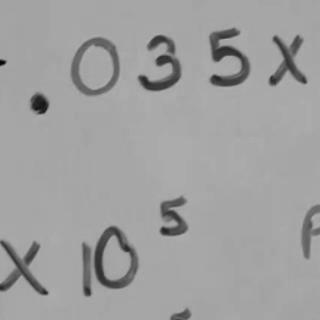.: (23, 91, 52, 117)
0: (70, 36, 121, 96), (95, 224, 138, 289)
1: (79, 241, 91, 298)
3: (141, 33, 181, 93)
5: (210, 26, 251, 89), (156, 194, 188, 237)
